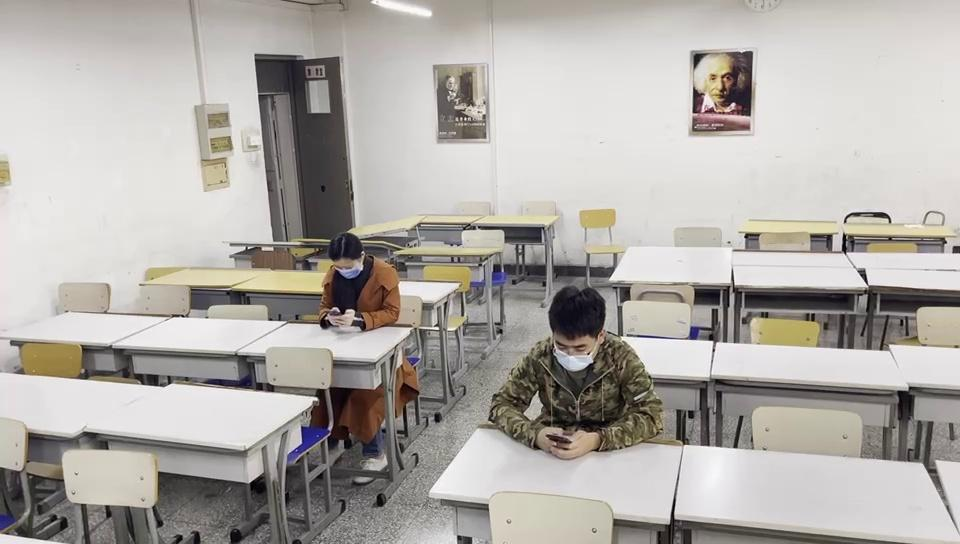phone: (499, 293, 658, 450), (318, 235, 397, 327)
